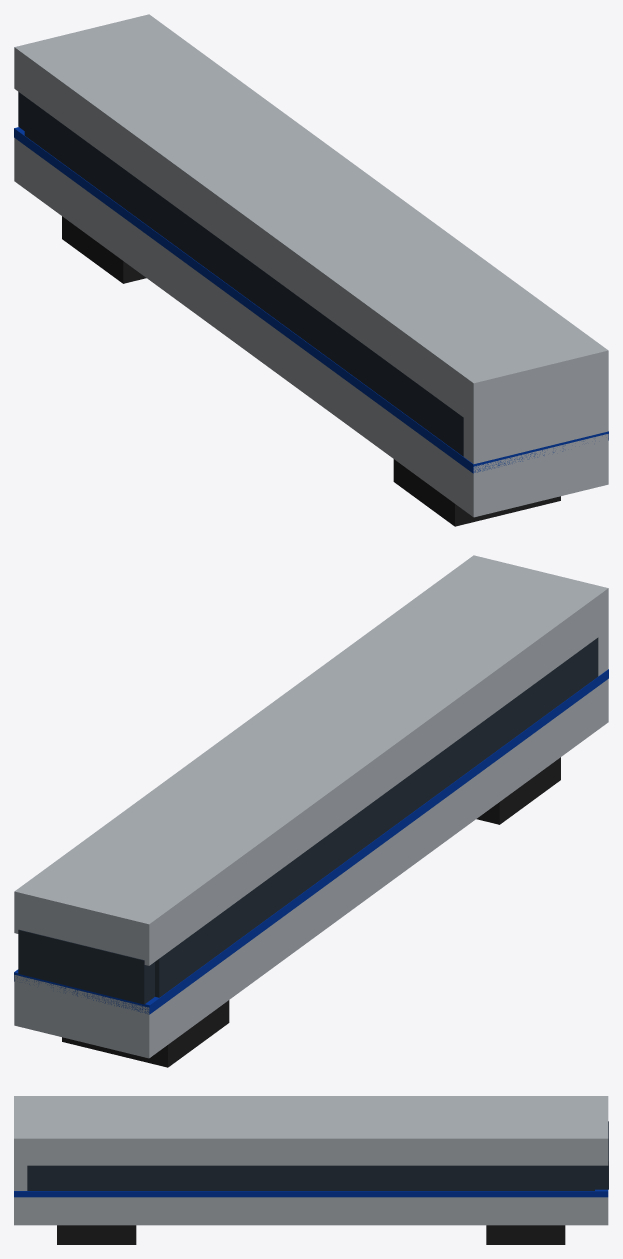
3 views of the same model, one above another, from view 1: azimuth 30°, elevation 25°; view 2: azimuth 150°, elevation 25°; view 3: azimuth 270°, elevation 25° (orthographic). The views are drawn at different scales.
Size of the model in its own units: 3.07 by 3.7 by 18.02.
